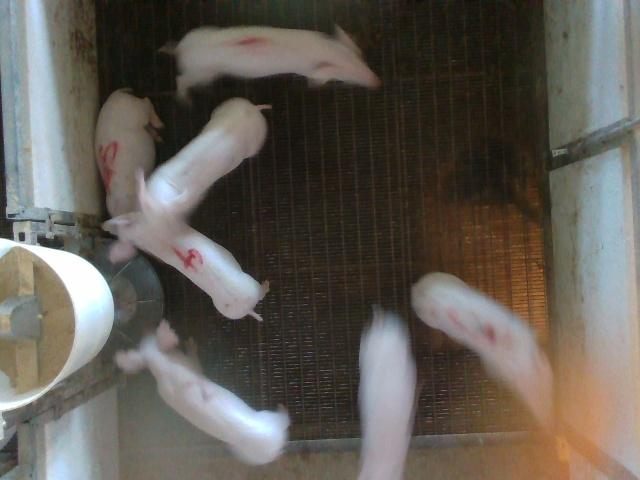pig-1: (174, 25, 380, 98)
pig-2: (116, 320, 290, 464)
pig-3: (411, 272, 552, 429)
pig-4: (105, 209, 268, 319)
pig-5: (95, 89, 162, 217)
